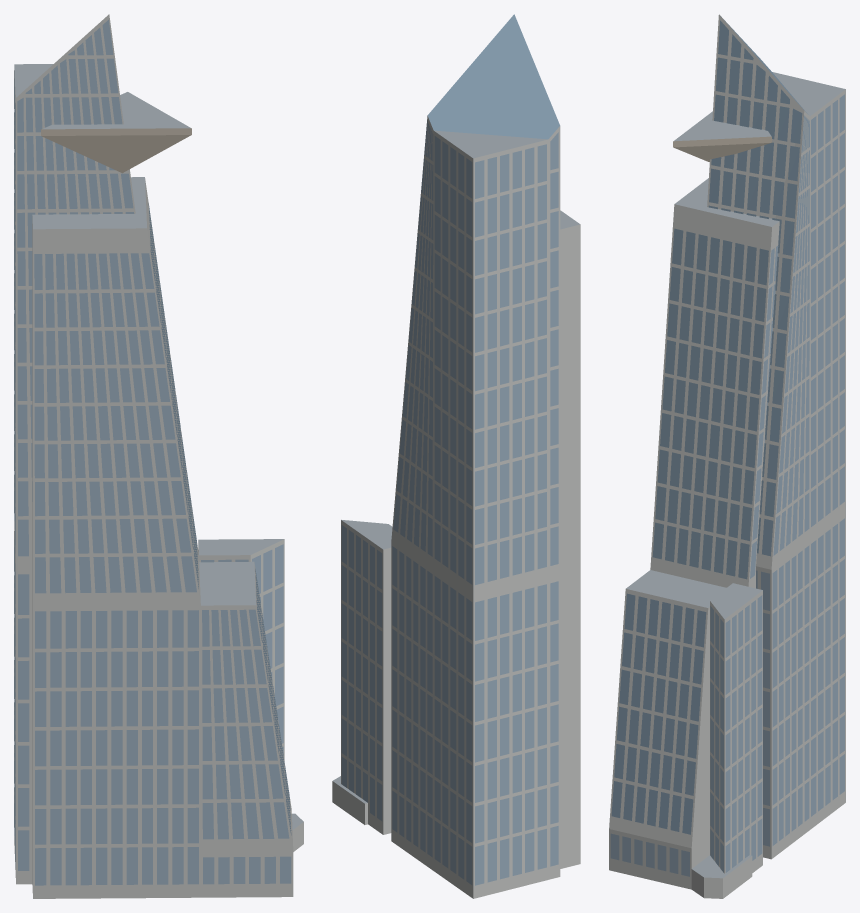
File: detail.glb
3 renders of one model, left to right at view 1: azimuth 30°, elevation 25°; view 2: azimuth 150°, elevation 25°; view 3: azimuth 270°, elevation 25°, orthographic. The views are drawn at different scales.
Visible parts, largest first — view 1: 30-hudson-yards; view 2: 30-hudson-yards; view 3: 30-hudson-yards.
Boxes of the visible parts, x1=… form: 30-hudson-yards: x1=14, y1=14, x2=303, y2=898; 30-hudson-yards: x1=332, y1=14, x2=580, y2=898; 30-hudson-yards: x1=609, y1=14, x2=845, y2=898.
Bounding box in the file's own units: 122 × 387 × 104.
